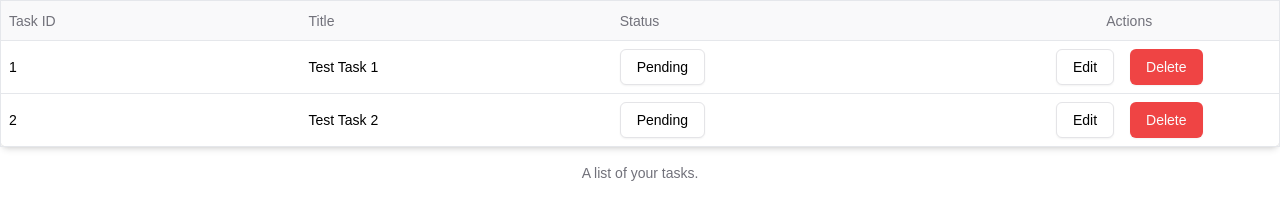
Test: DataTable Component › deletes a task when the delete button is clicked
This screenshot has width=1280, height=198.
Check: the text "Test Task 1" is shown, box [300,40,612,94]
Note: Find delete button & click it
Click the button "Delete" in the row of "Test Task 1".
click(1166, 67)  # box [1130,49,1203,85]
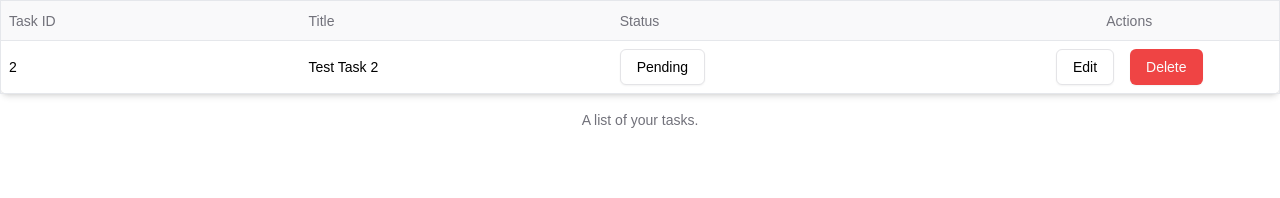
Check: the text "Test Task 1" is gone
